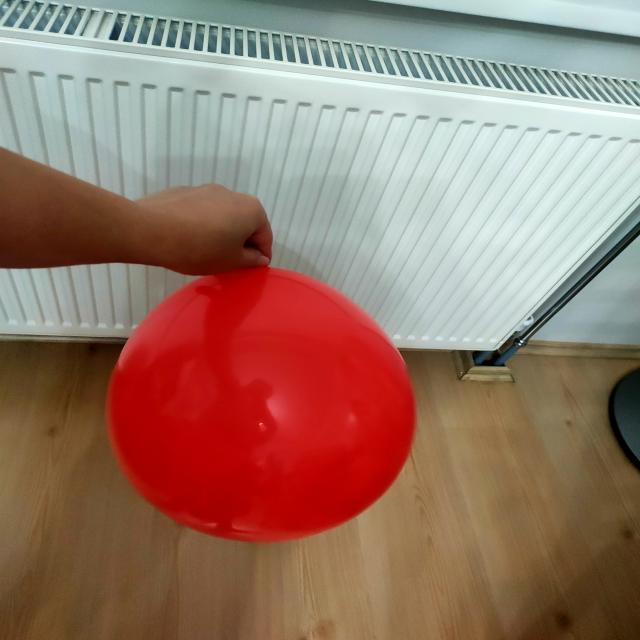red: (109, 268, 417, 544)
